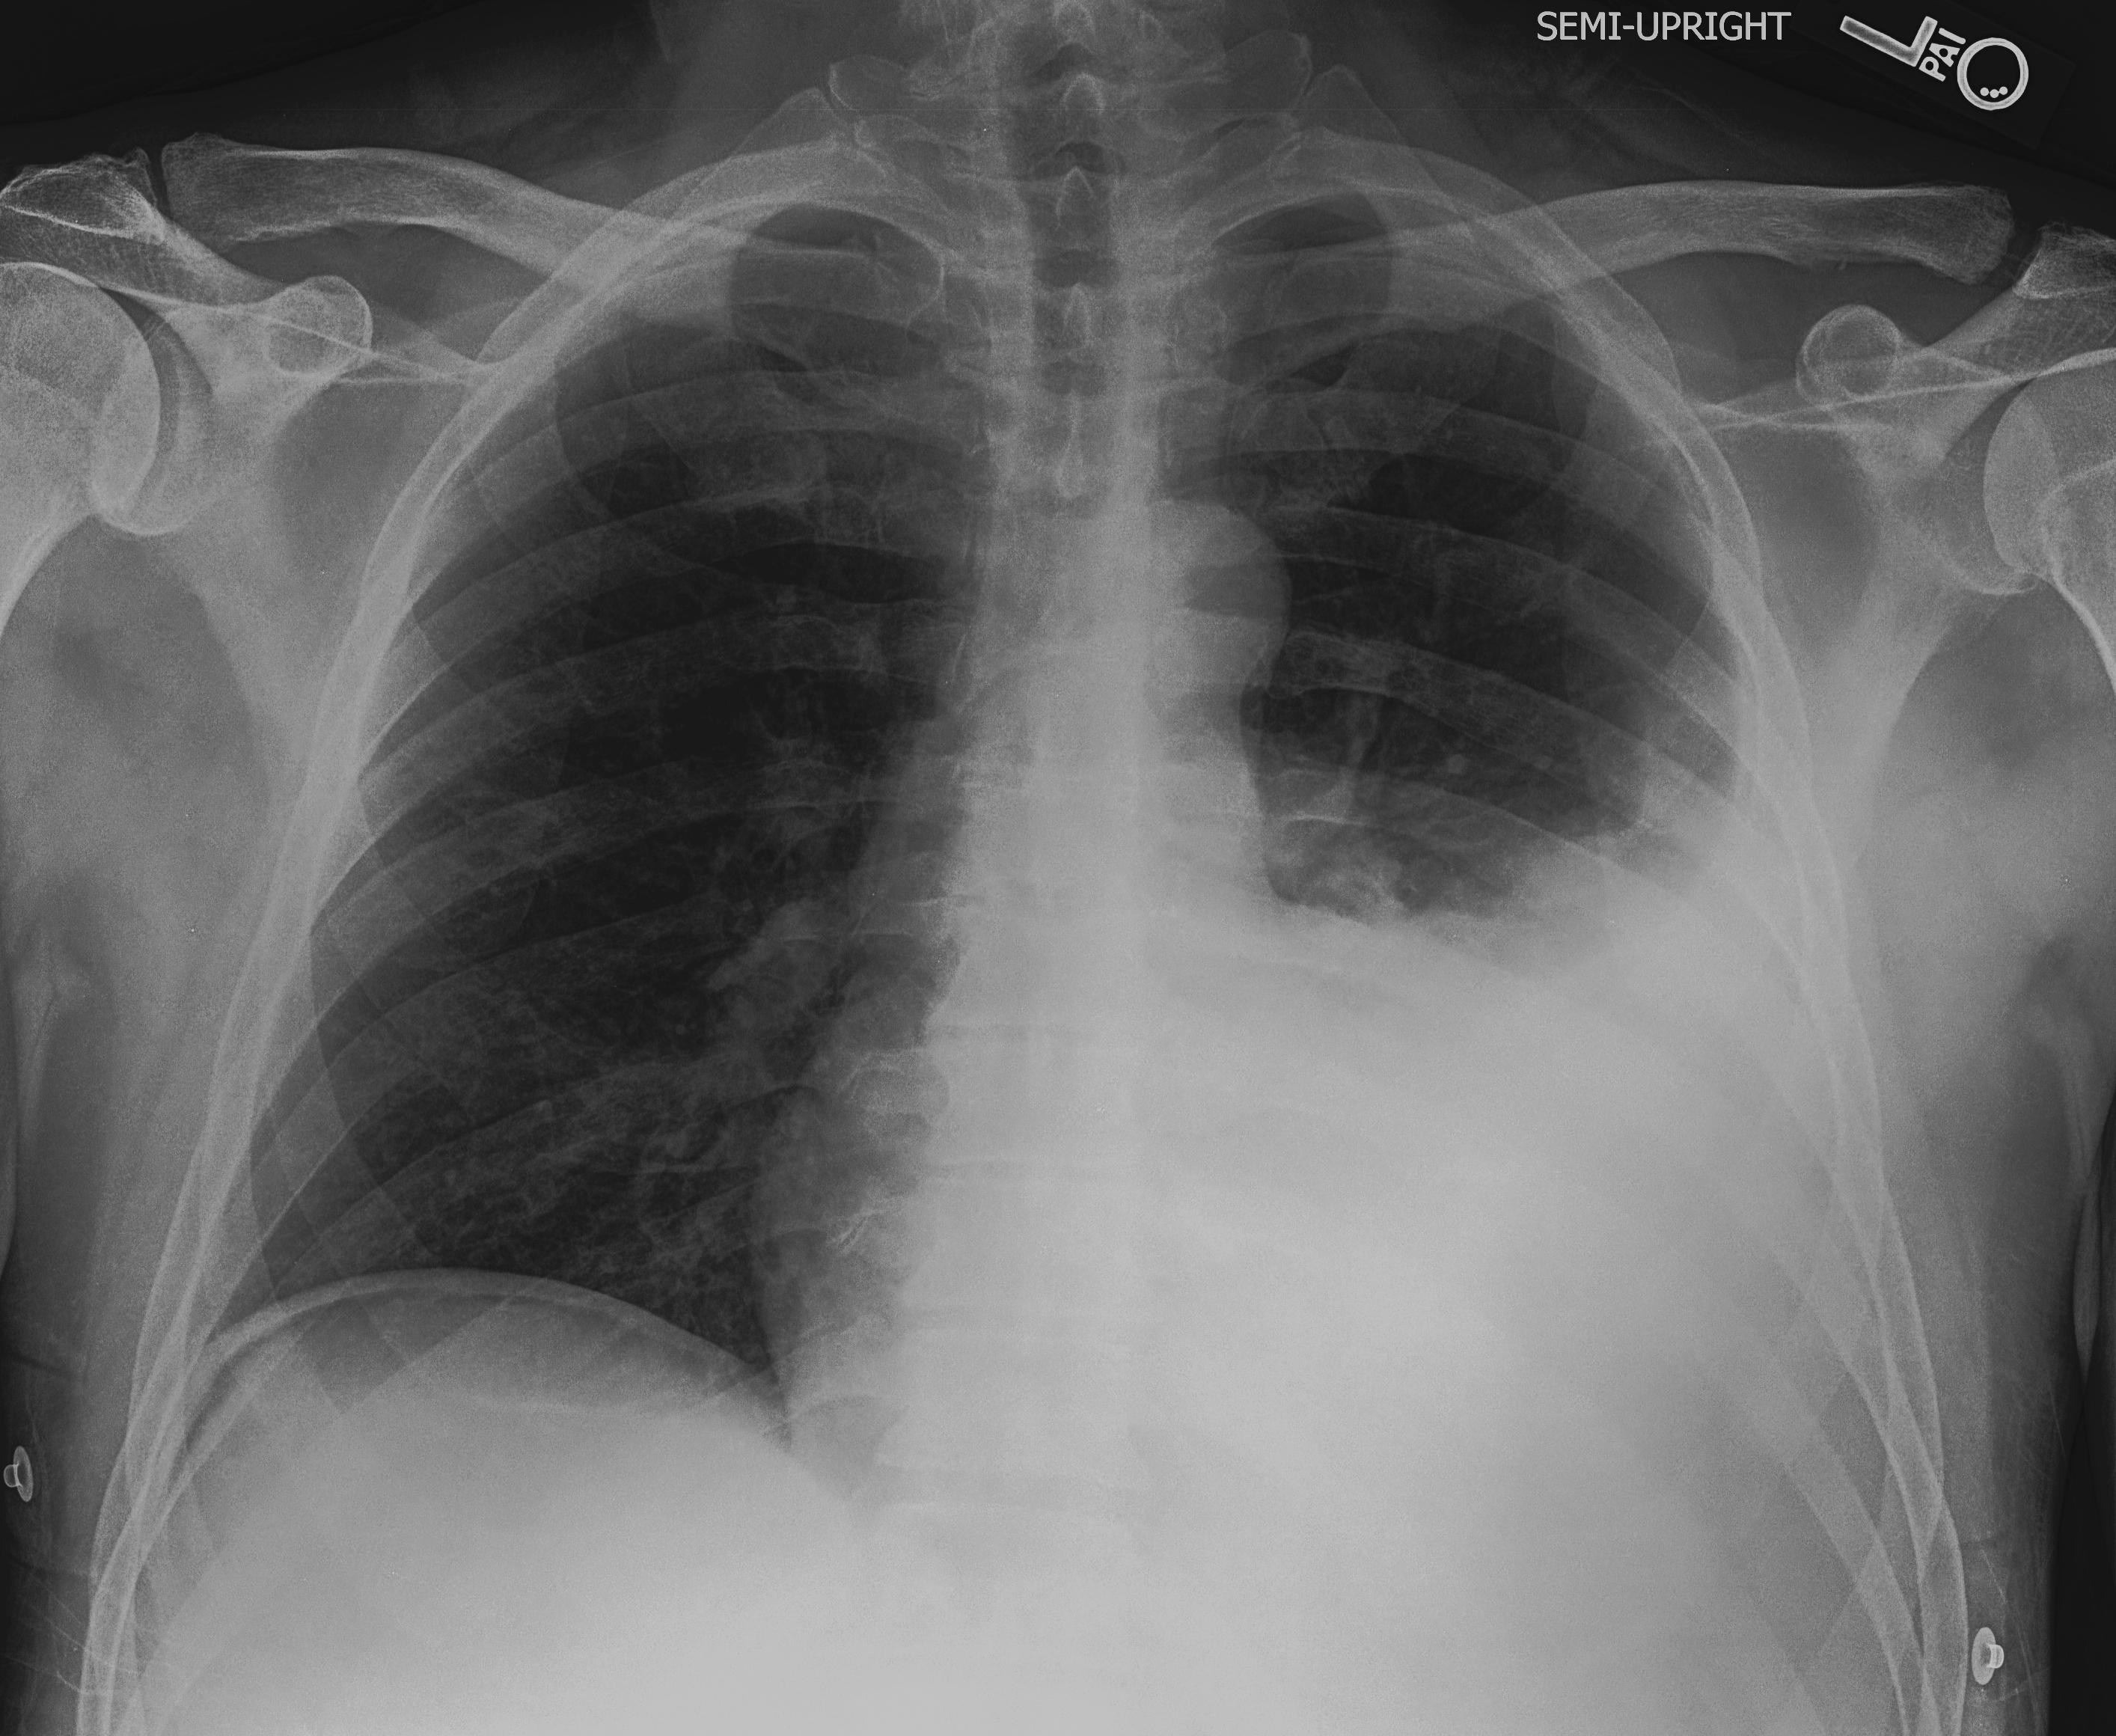Pleural Effusion: (1406, 882, 1919, 1458)
